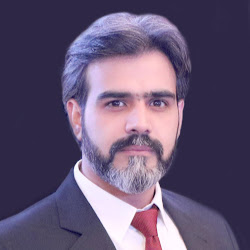young: (70, 16, 192, 187)
